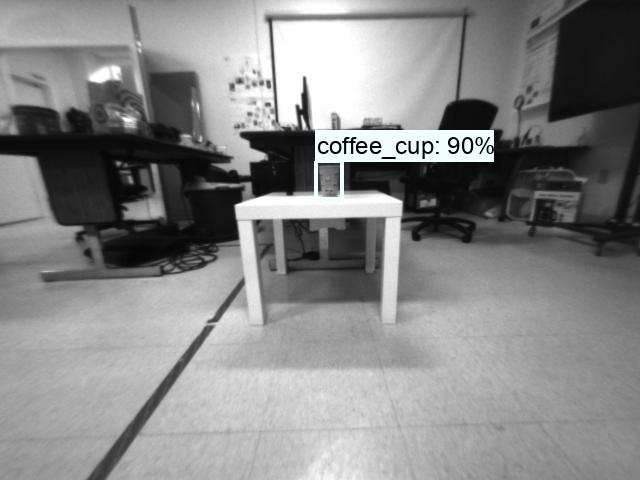coffee_cup: (316, 163, 343, 200)
